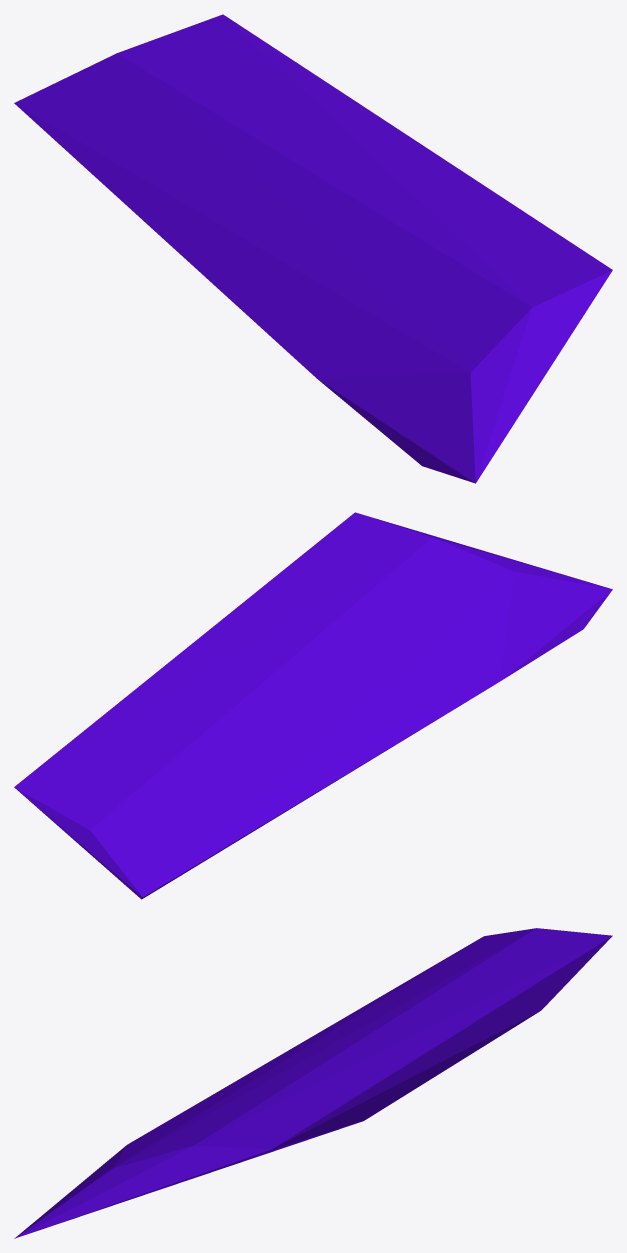
Rendered from torso_convex_piece_002.obj.
3 renders of one model, top to bottom at view 1: azimuth 30°, elevation 25°; view 2: azimuth 150°, elevation 25°; view 3: azimuth 330°, elevation 25°, orthographic. The views are drawn at different scales.
Bounding box in the file's own units: 0.0744 × 0.0328 × 0.2728.
